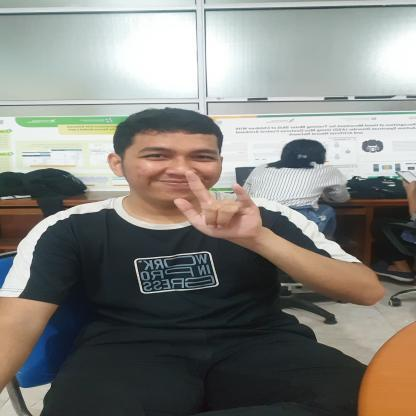ILoveYou: (168, 172, 262, 240)
